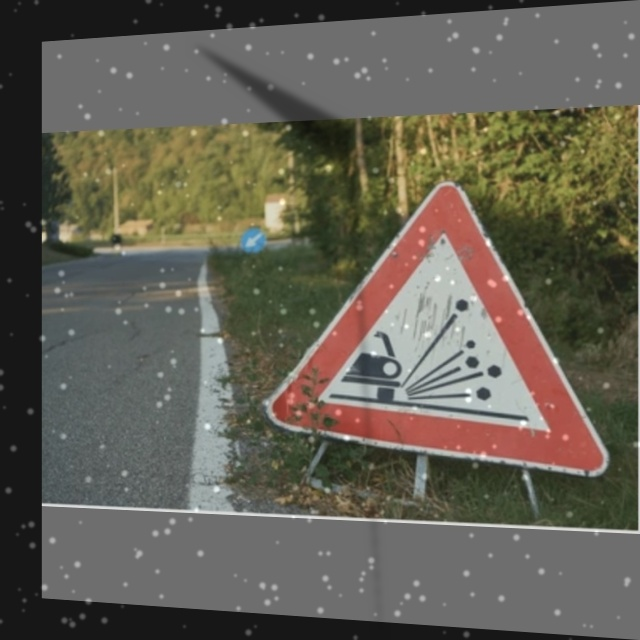Loose_Gravel: (279, 175, 601, 474)
